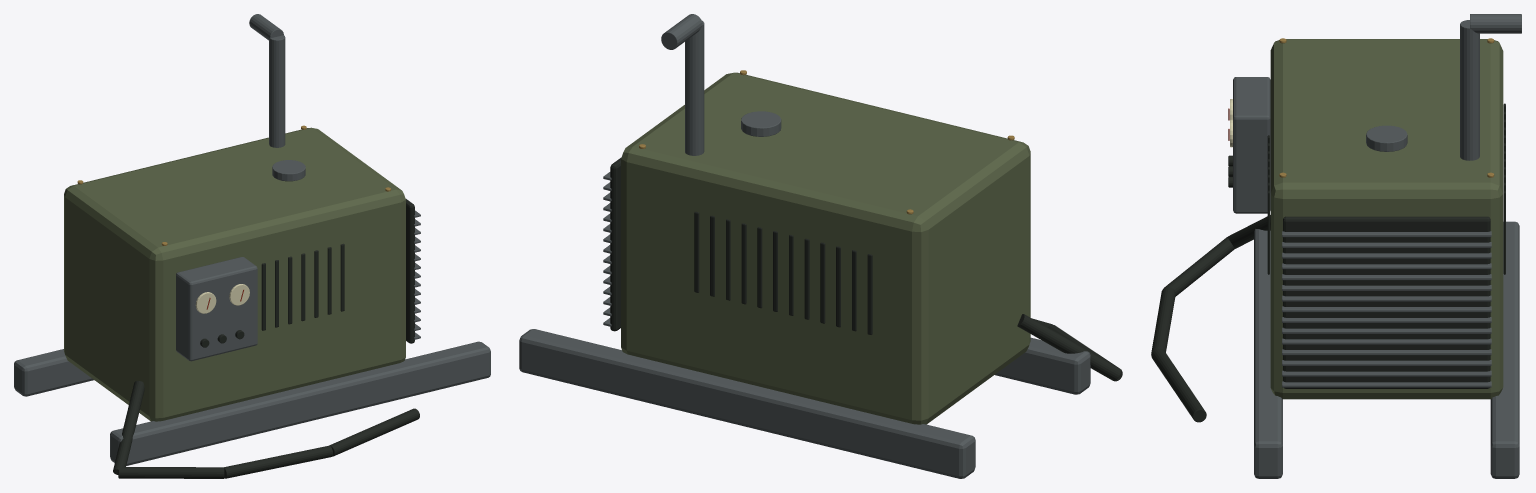
The model's file is FieldGenerator.fbx.
3 views of the same model, side by side, from view 1: azimuth 30°, elevation 25°; view 2: azimuth 150°, elevation 25°; view 3: azimuth 270°, elevation 25° (orthographic). The views are drawn at different scales.
Visible parts, largest first — view 1: FieldGenerator; view 2: FieldGenerator; view 3: FieldGenerator.
Boxes of the visible parts, <box> form: FieldGenerator: <box>14,14,490,478</box>; FieldGenerator: <box>519,14,1122,478</box>; FieldGenerator: <box>1151,14,1521,478</box>.
Bounding box in the file's own units: 265 × 178 × 207.
